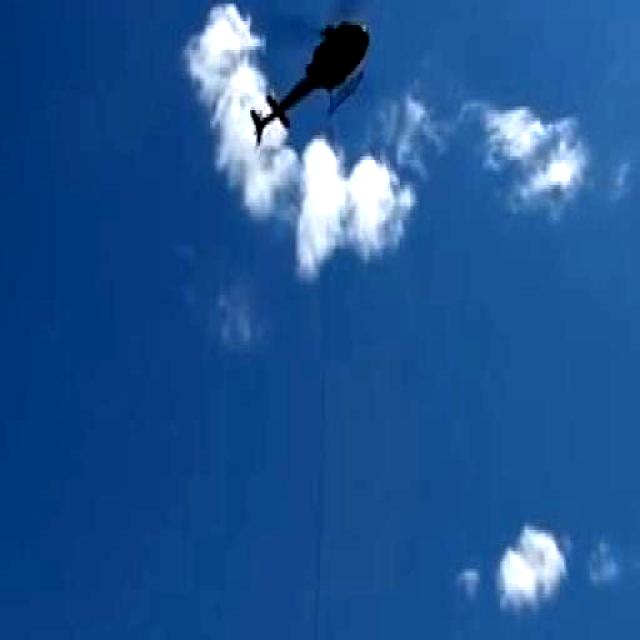drone: (242, 0, 376, 159)
